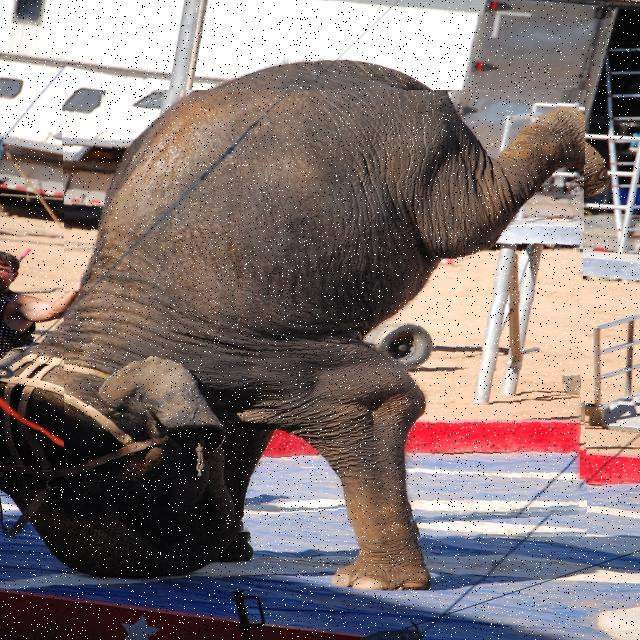elephant: (64, 90, 586, 542)
